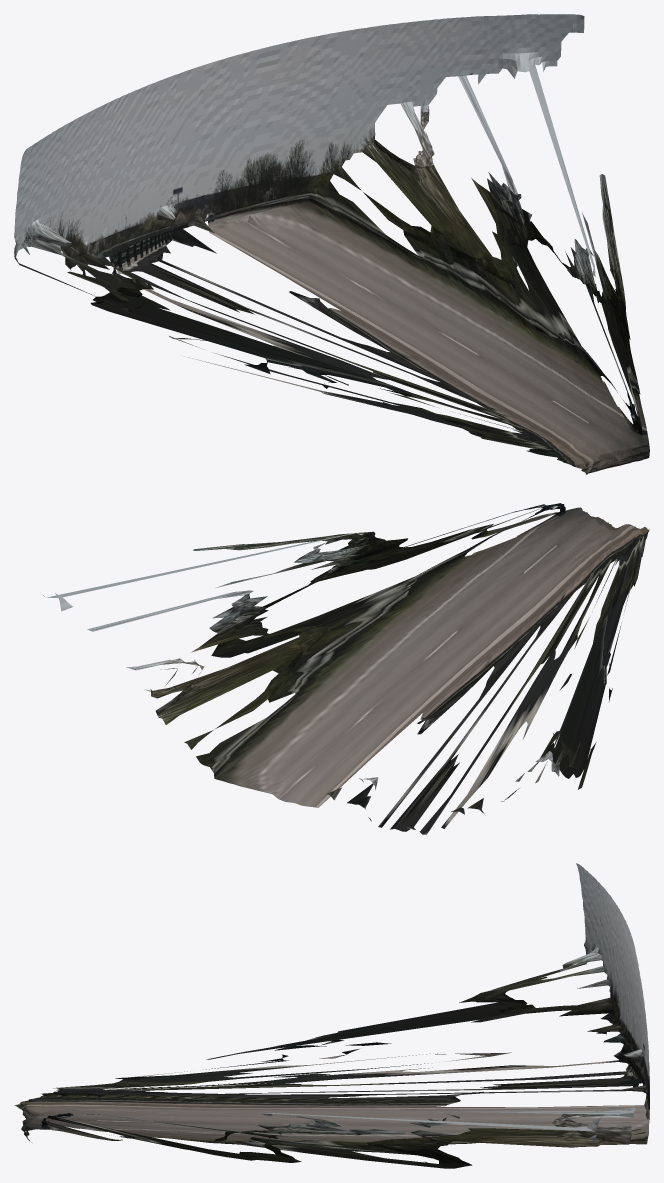
3 renders of one model, top to bottom at view 1: azimuth 30°, elevation 25°; view 2: azimuth 150°, elevation 25°; view 3: azimuth 270°, elevation 25°, orthographic. The views are drawn at different scales.
Parts seen in each view (by area): view 1: defaultobject; view 2: defaultobject; view 3: defaultobject.
Boxes of the visible parts, left/top/right/bottom form: defaultobject: left=14, top=14, right=649, bottom=474; defaultobject: left=42, top=503, right=649, bottom=834; defaultobject: left=14, top=863, right=649, bottom=1168.
Bounding box in the file's own units: 40.91 × 12.78 × 44.77.
Materials: 1 (1 with a texture image).
